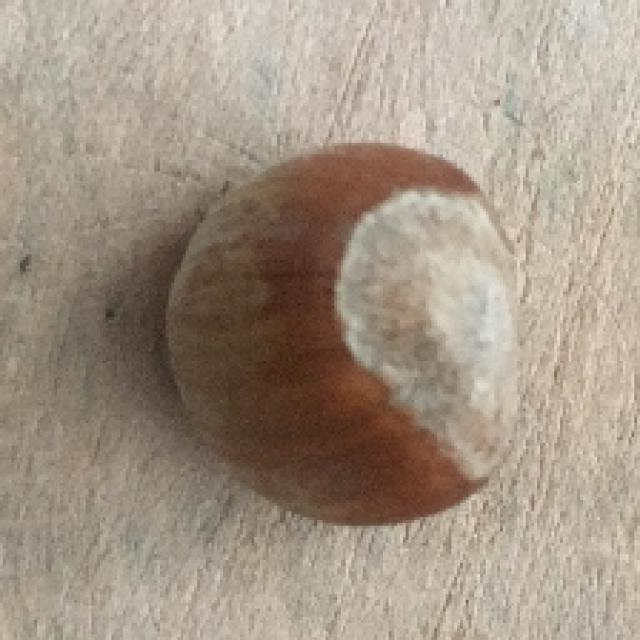qualityHazelnut: (158, 137, 542, 531)
